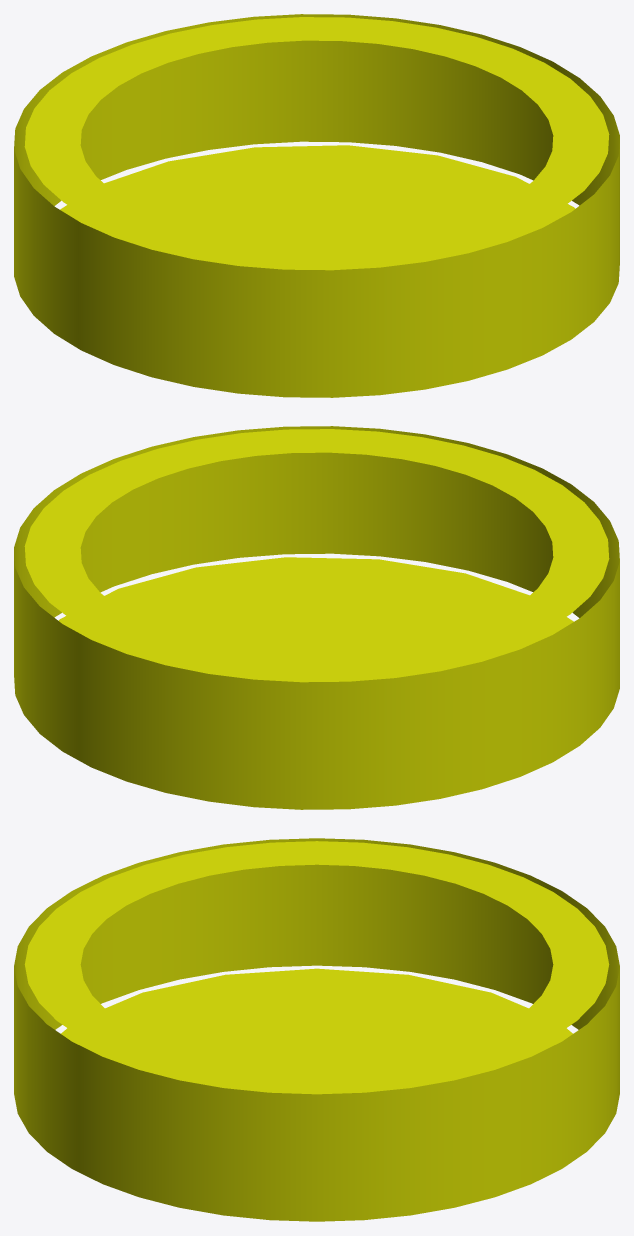
File: Top Pod Glass.fbx
3 views of the same model, one above another, from view 1: azimuth 30°, elevation 25°; view 2: azimuth 150°, elevation 25°; view 3: azimuth 270°, elevation 25° (orthographic).
Visible parts, largest first — view 1: SmartCombine_0; view 2: SmartCombine_0; view 3: SmartCombine_0.
Boxes of the visible parts, box(x1,y1,x2,y2) form: SmartCombine_0: box(14, 14, 619, 397); SmartCombine_0: box(14, 426, 619, 809); SmartCombine_0: box(14, 838, 619, 1221).
Bounding box in the file's own units: 108 × 25.41 × 108.
